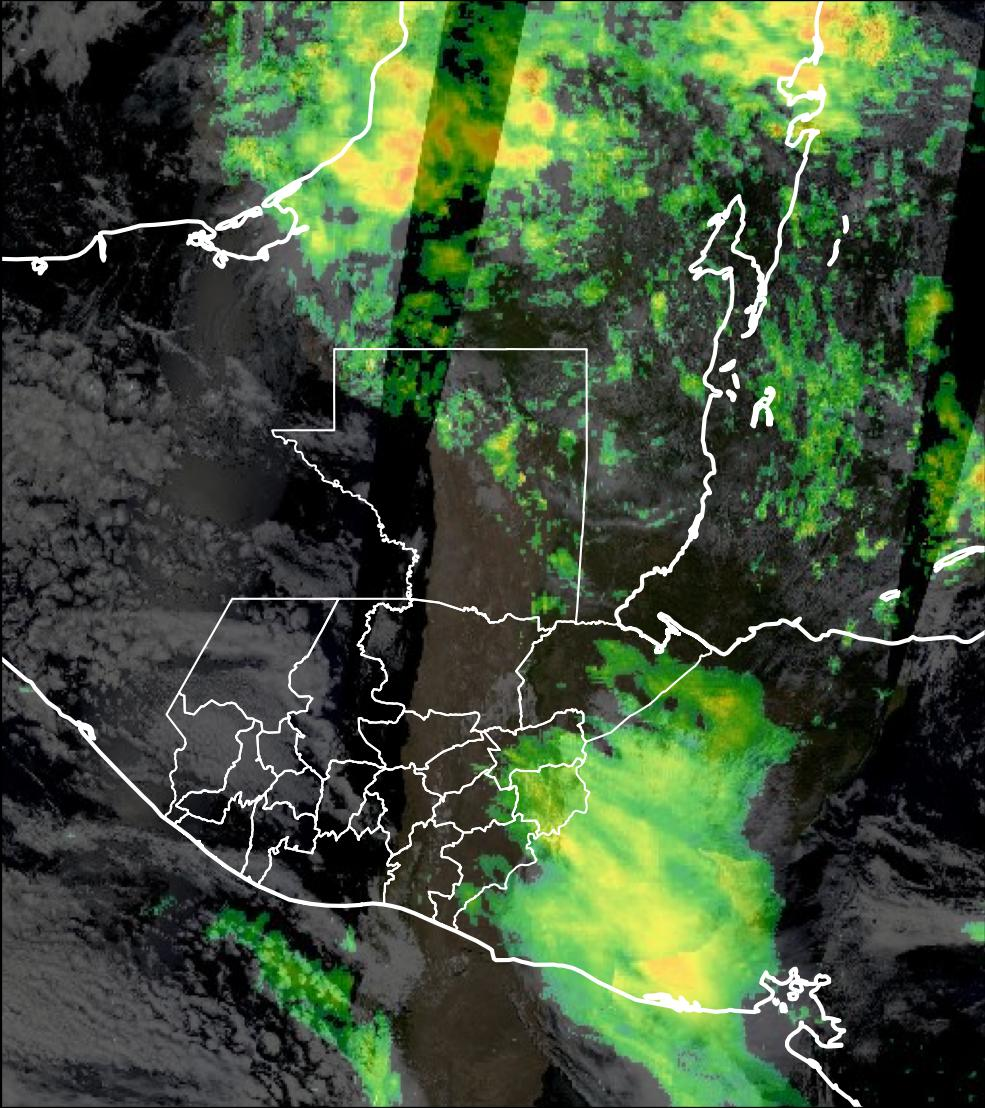precipitacion: (376, 129, 453, 217), (619, 953, 713, 1004)
